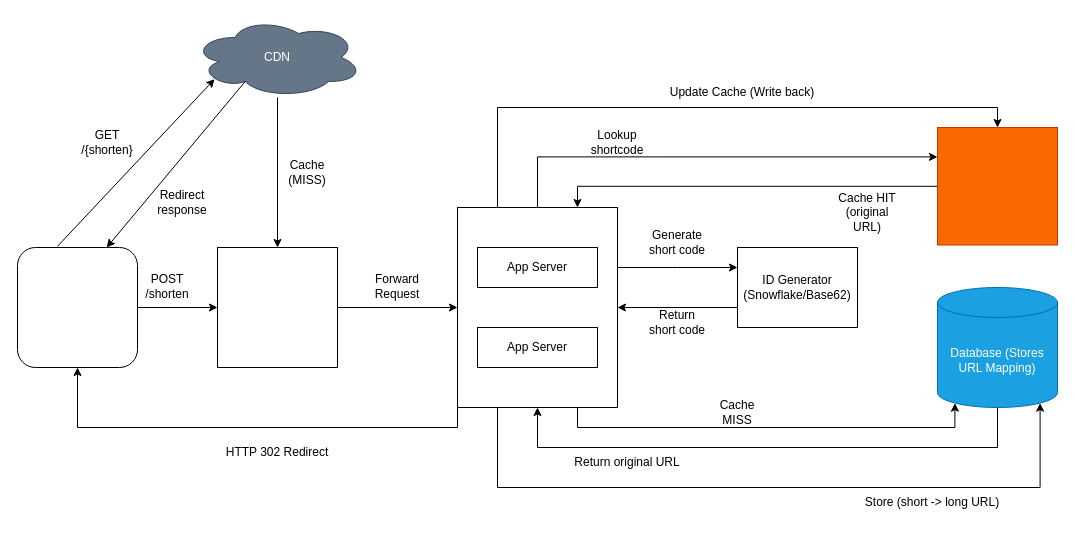
The diagram is 1075 pixels wide and 535 high, and some of its shapes have lost their labels. Here are the shapes that lost their labels. From the top down, the centre of each, then its label:
point (997, 185): Cache (Redis)
point (77, 307): Client (Web/Mobile)
point (277, 307): Load balancer
